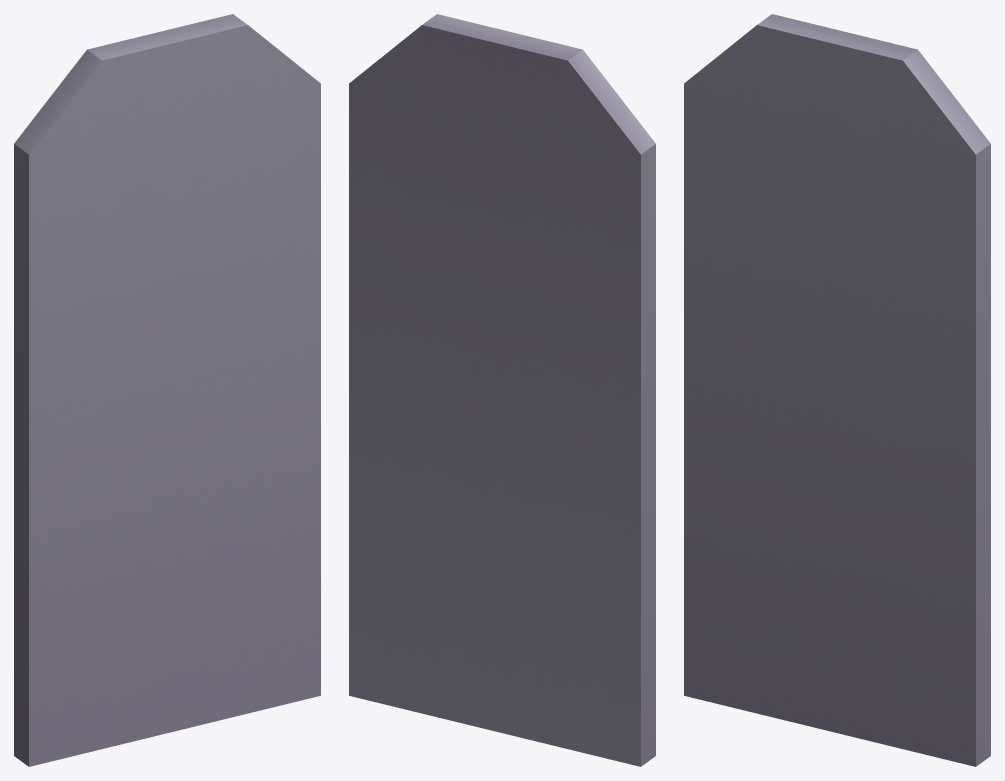
Rendered from Sliding Door.fbx.
The picture shows the model from 3 angles, left to right: view 1: azimuth 30°, elevation 25°; view 2: azimuth 150°, elevation 25°; view 3: azimuth 330°, elevation 25°; orthographic projection.
Visible parts, largest first — view 1: slidingdoor; view 2: slidingdoor; view 3: slidingdoor.
Part boxes in pixels (x1,y1,x2,y2): slidingdoor: [14, 14, 320, 766]; slidingdoor: [349, 14, 655, 766]; slidingdoor: [684, 14, 990, 766].
Bounding box in the file's own units: 85.4 × 192 × 7.64.
